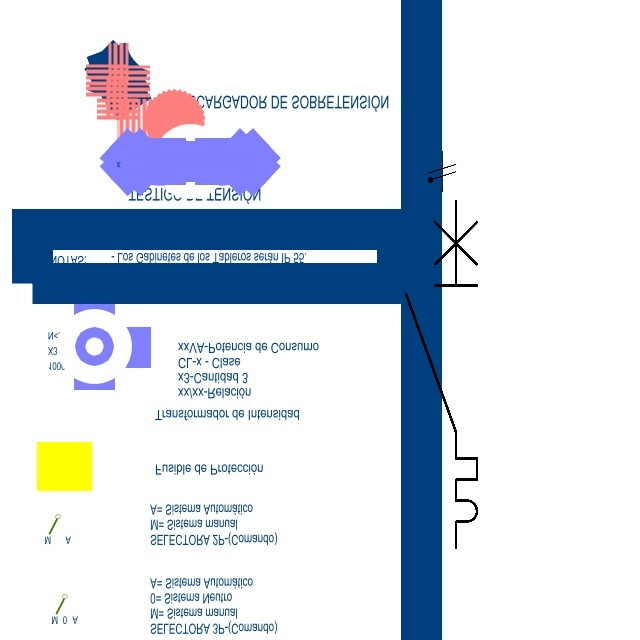interruptor_termomagnetico: (397, 192, 486, 556)
